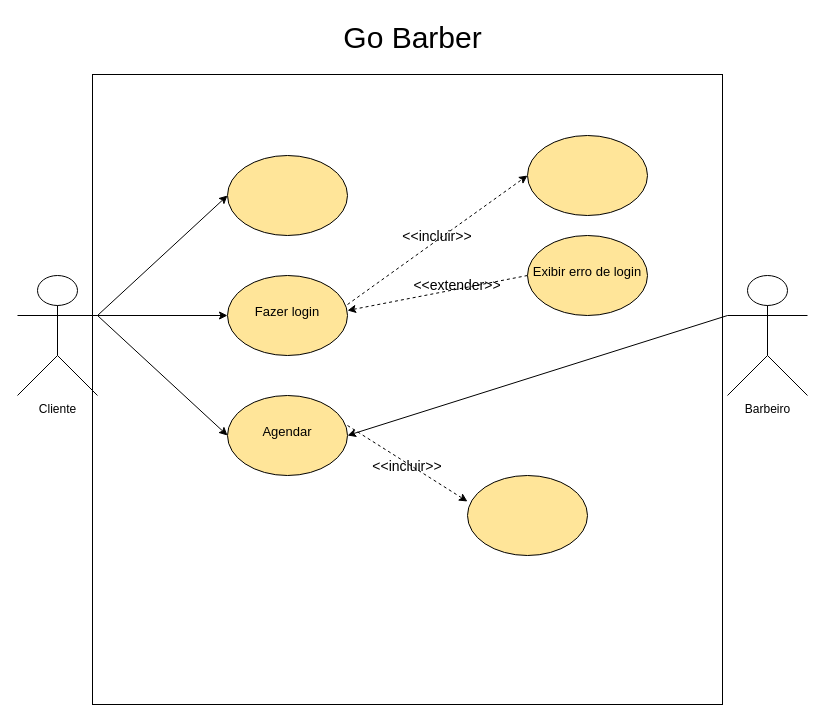
The diagram is 825 pixels wide and 722 high, and some of its shapes have lost their labels. The centre of each missing label's shape, as x and y in pixels:
"Fazer Cadastro" belongs at [287,195].
"Verificar horario disponivel" belongs at [527,515].
"Verificar senha" belongs at [587,175].
